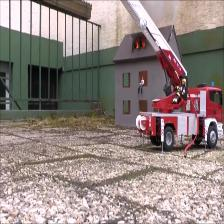fire: (130, 29, 156, 57)
smoke: (150, 2, 188, 23)
